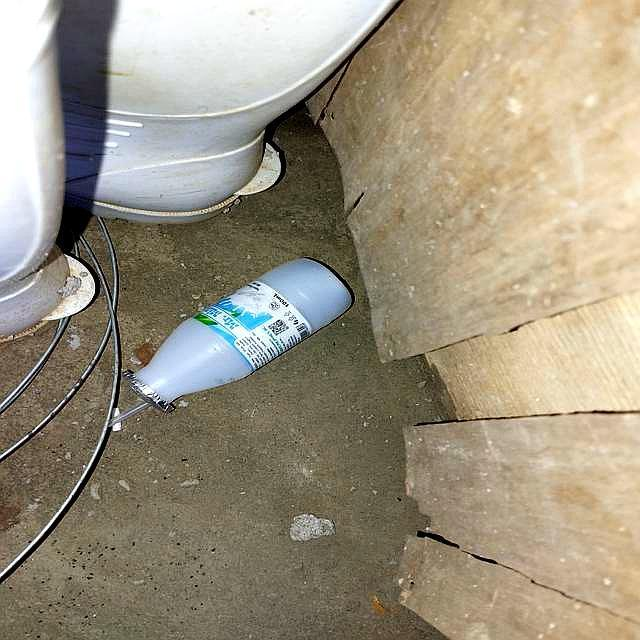Non-biodegradable: (132, 260, 354, 413)
